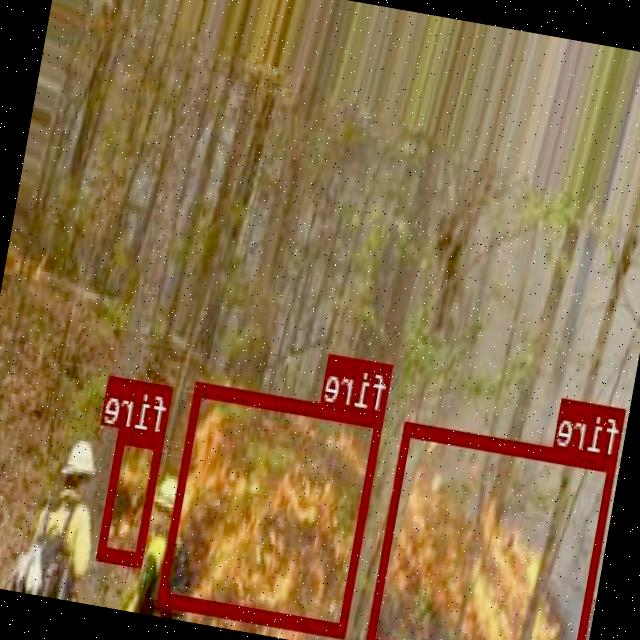fire: (157, 379, 386, 637), (367, 420, 618, 640), (98, 426, 165, 564)
